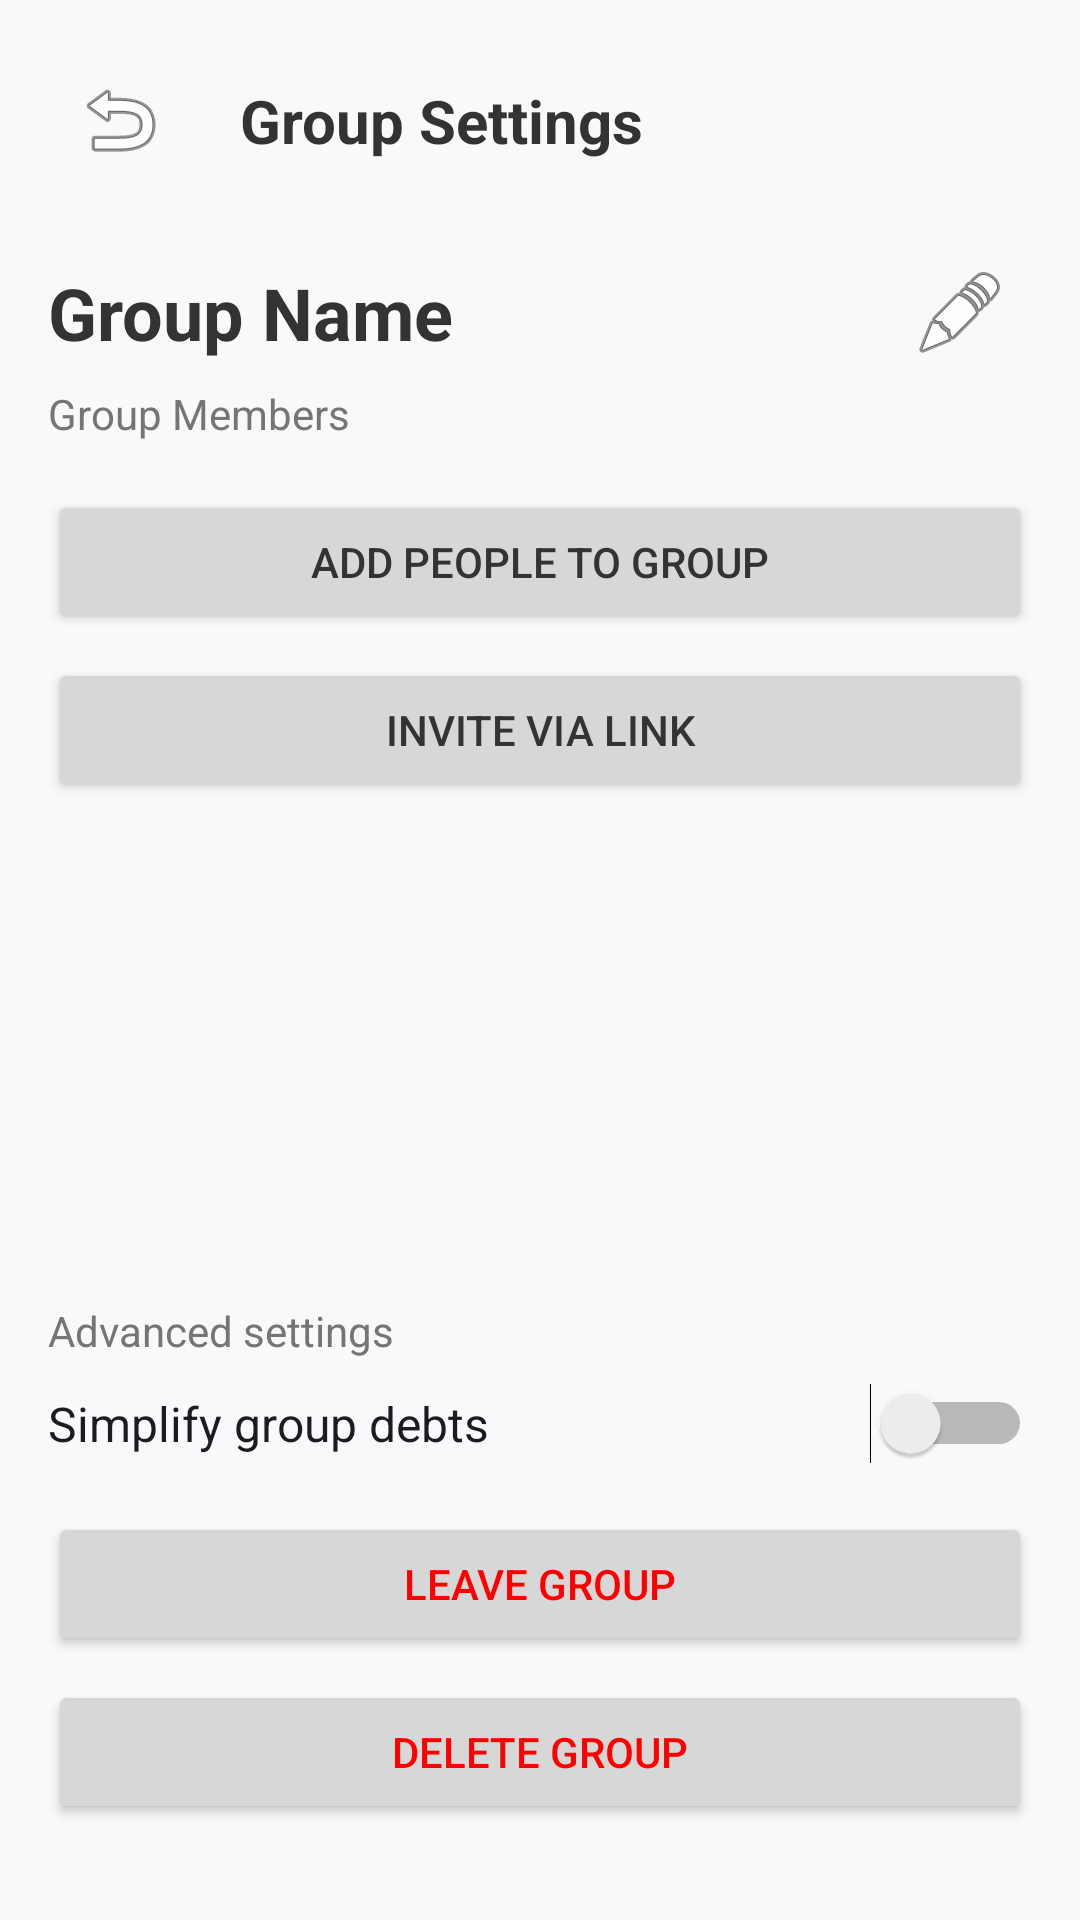

Named icons in this screenshot (1080px x 1920px) and their bounding boxes, (x1,y1,x2,y2):
Back: (87,89,156,152)
Edit Group: (919,272,1000,353)
